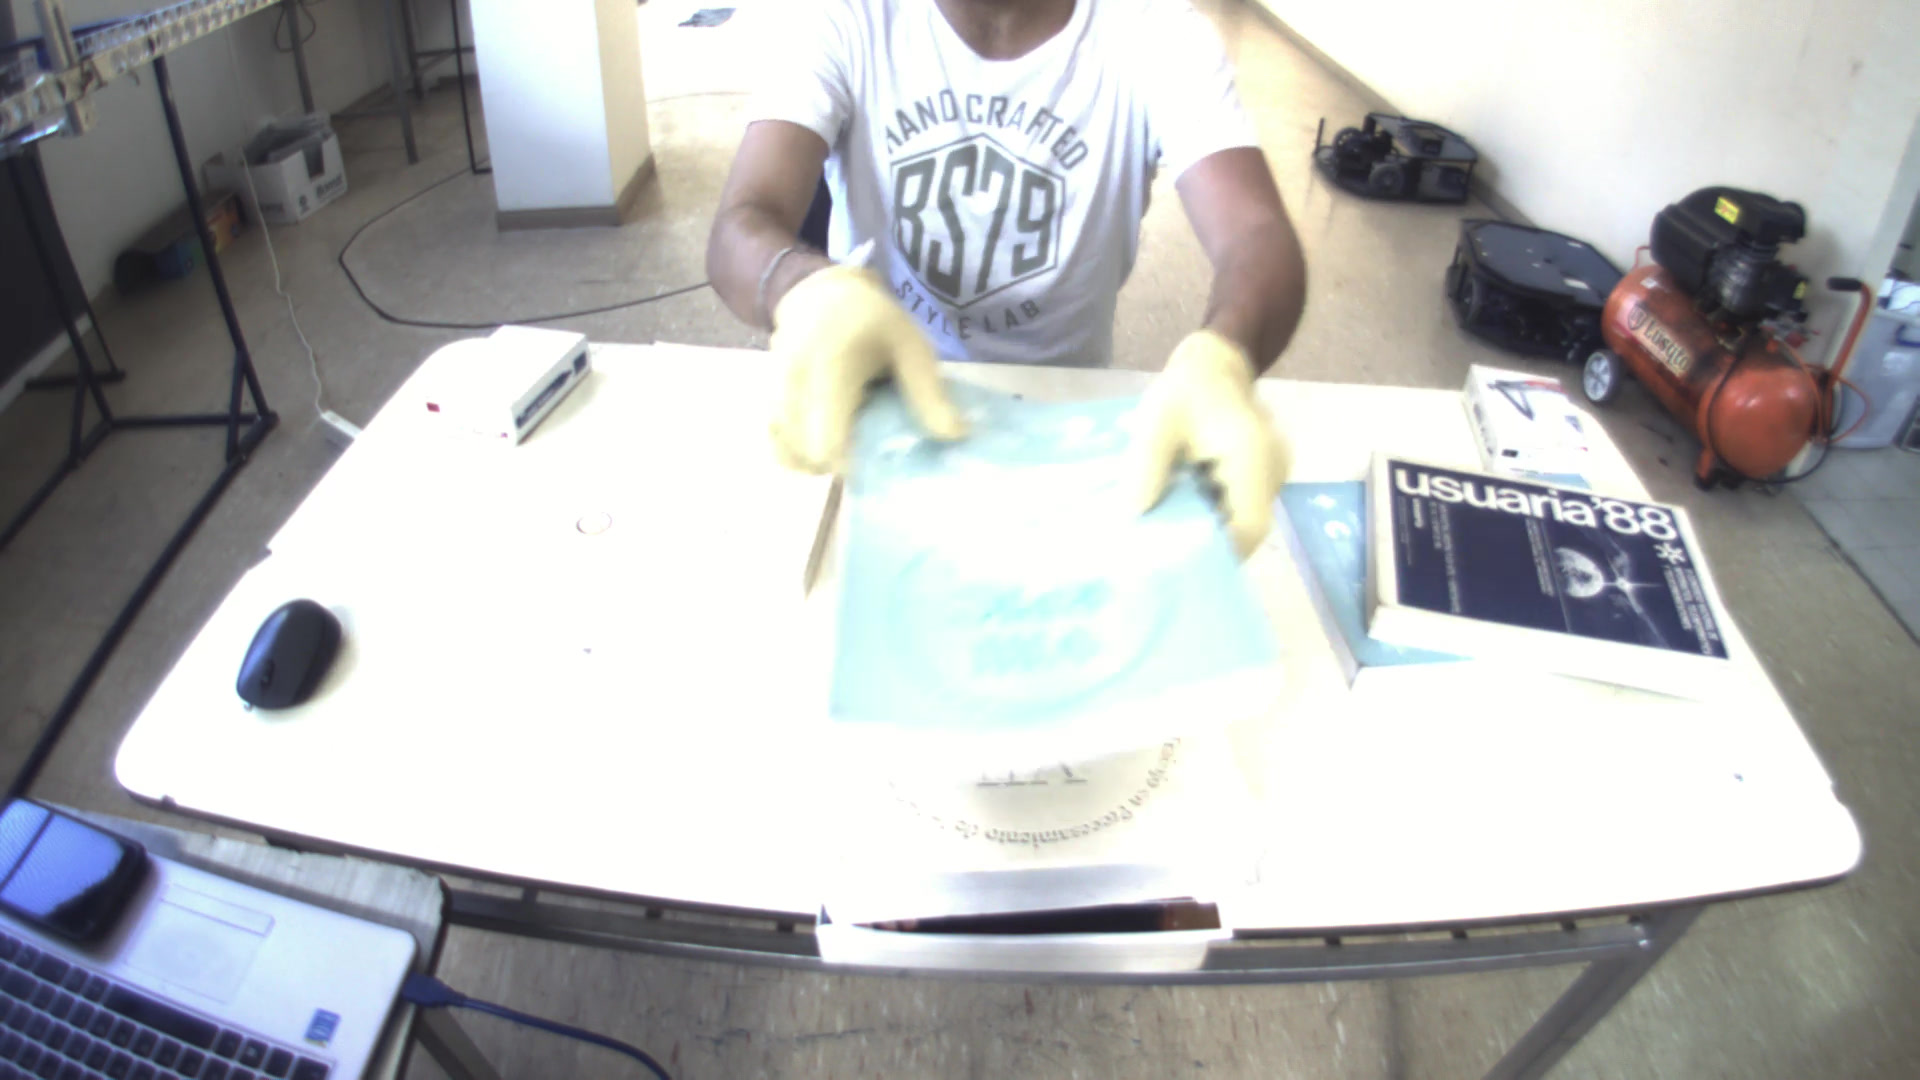hand: (756, 248, 976, 479), (1131, 315, 1307, 560)
